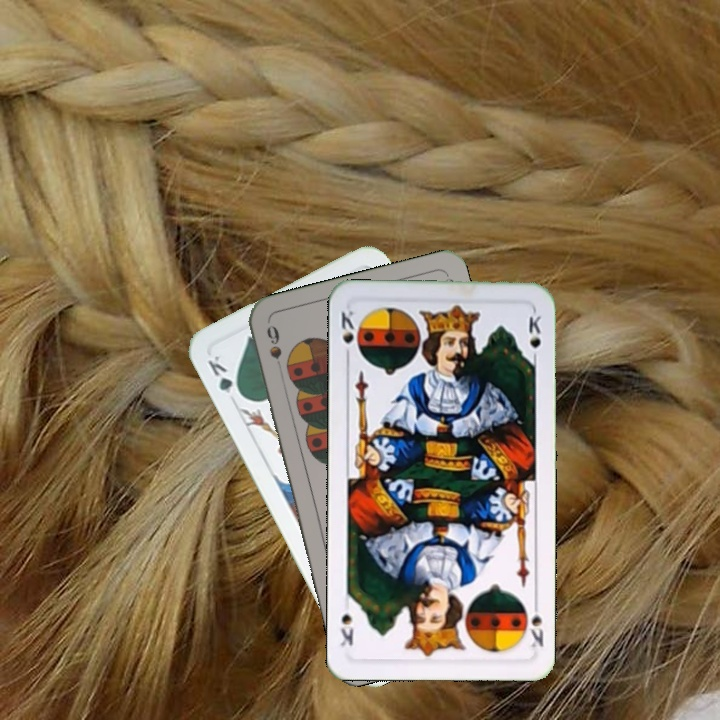GK: (203, 351, 246, 401)
S9: (262, 320, 285, 362)
SK: (337, 306, 357, 363), (526, 595, 547, 649)
